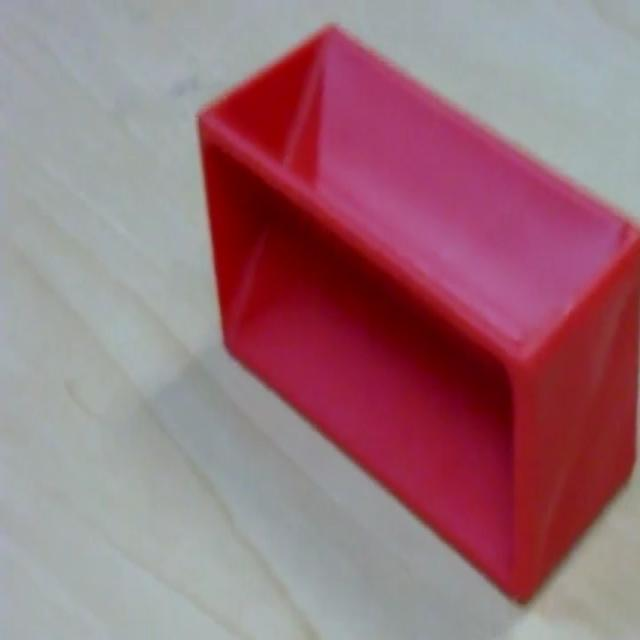red_block: (194, 20, 638, 605)
